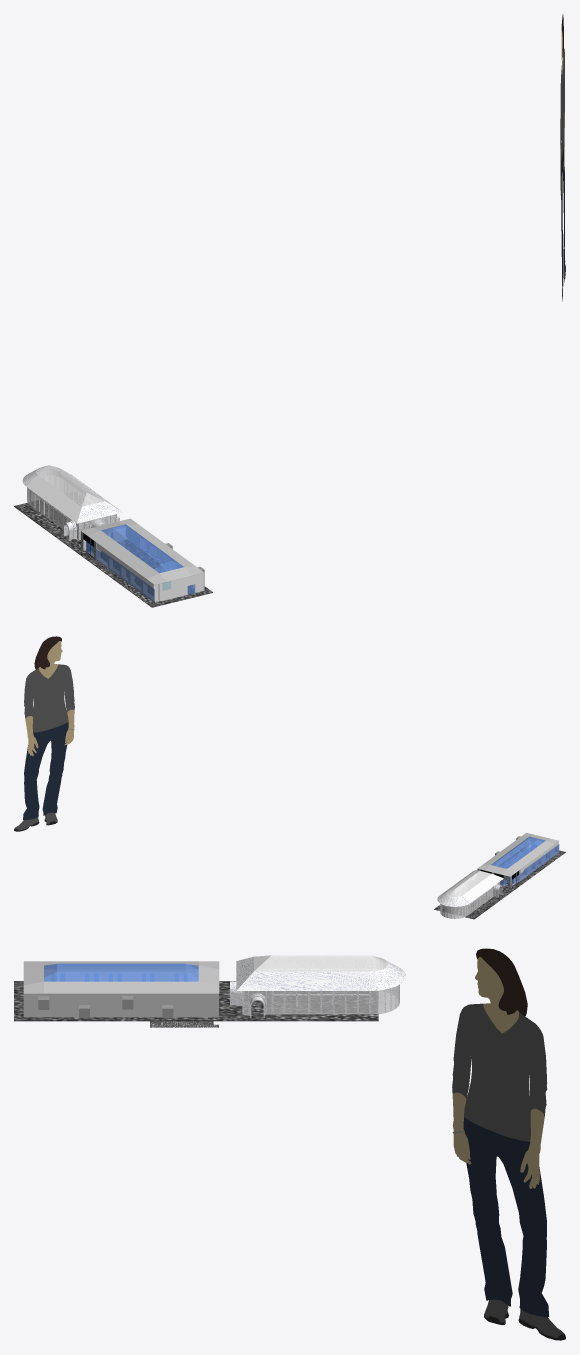
The model's file is GalleryInterior.obj.
3 views of the same model, one above another, from view 1: azimuth 30°, elevation 25°; view 2: azimuth 150°, elevation 25°; view 3: azimuth 270°, elevation 25° (orthographic). The views are drawn at different scales.
Parts seen in each view (by area): view 1: Ground_Cube, Roof_Cube.014, SketchUp_ID226, RoofGlass_Cube.015, SketchUp.199_ID1194, SketchUp.198_ID1186, SketchUp.294_ID229, SketchUp.348_ID680; view 2: instance_0.002_ID5, instance_0.010_ID81, Ground_Cube, Roof_Cube.014, SketchUp_ID226, RoofGlass_Cube.015, SketchUp.199_ID1194, SketchUp.198_ID1186, instance_0.004_ID27, instance_0.003_ID17; view 3: instance_0.002_ID5, instance_0.010_ID81, SketchUp_ID226, Ground_Cube, Roof_Cube.014, BuildingStructureWall_Cube.004, RoofGlass_Cube.015, SketchUp.199_ID1194, instance_0.004_ID27, instance_0.003_ID17, instance_0.006_ID47.001.
Part boxes in pixels (<box>): Ground_Cube: <box>14,495,212,607</box>; Roof_Cube.014: <box>81,518,204,584</box>; SketchUp_ID226: <box>22,466,122,540</box>; RoofGlass_Cube.015: <box>101,524,183,572</box>; SketchUp.199_ID1194: <box>36,465,104,506</box>; SketchUp.198_ID1186: <box>26,475,81,523</box>; SketchUp.294_ID229: <box>153,573,203,601</box>; SketchUp.348_ID680: <box>101,550,154,601</box>; instance_0.002_ID5: <box>24,664,74,732</box>; instance_0.010_ID81: <box>23,722,68,820</box>; Ground_Cube: <box>434,846,565,919</box>; Roof_Cube.014: <box>477,832,558,876</box>; SketchUp_ID226: <box>437,870,502,918</box>; RoofGlass_Cube.015: <box>491,836,545,868</box>; SketchUp.199_ID1194: <box>446,870,491,896</box>; SketchUp.198_ID1186: <box>463,874,503,902</box>; instance_0.004_ID27: <box>34,636,61,669</box>; instance_0.003_ID17: <box>39,641,62,678</box>; instance_0.002_ID5: <box>452,1003,547,1141</box>; instance_0.010_ID81: <box>463,1117,548,1317</box>; SketchUp_ID226: <box>230,956,405,1017</box>; Ground_Cube: <box>14,981,378,1021</box>; Roof_Cube.014: <box>23,961,219,993</box>; BuildingStructureWall_Cube.004: <box>23,993,218,1017</box>; RoofGlass_Cube.015: <box>44,963,198,981</box>; SketchUp.199_ID1194: <box>254,955,388,971</box>; instance_0.004_ID27: <box>476,948,527,1016</box>; instance_0.003_ID17: <box>475,957,518,1033</box>; instance_0.006_ID47.001: <box>520,1108,544,1188</box>.
Bounding box in the file's own units: 1993 × 983 × 1158.
